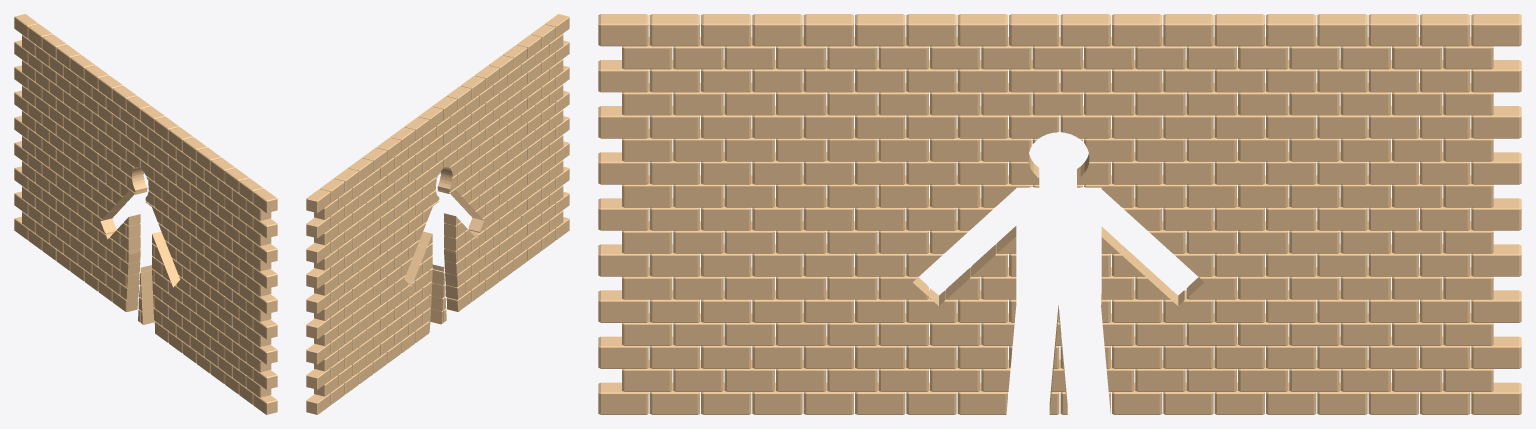
The model's file is nposewall.fbx.
3 renders of one model, left to right at view 1: azimuth 30°, elevation 25°; view 2: azimuth 150°, elevation 25°; view 3: azimuth 270°, elevation 25°, orthographic. The views are drawn at different scales.
Parts seen in each view (by area): view 1: RudolphBrick; view 2: RudolphBrick; view 3: RudolphBrick.
Part boxes in pixels (box(x1,y1,x2,y2)): RudolphBrick: box(14, 14, 277, 414); RudolphBrick: box(306, 14, 569, 414); RudolphBrick: box(598, 14, 1521, 414).
Bounding box in the file's own units: 27.26 × 468 × 1000.
